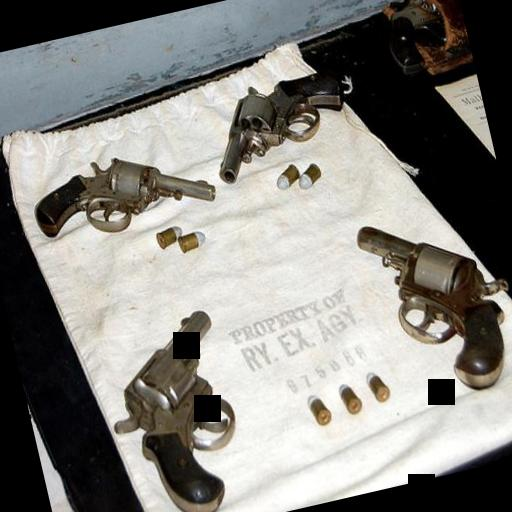Handgun: (347, 195, 512, 413), (88, 301, 256, 512), (26, 137, 218, 245), (202, 60, 356, 184), (376, 0, 473, 80)
